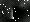person: (8, 7, 13, 19)
